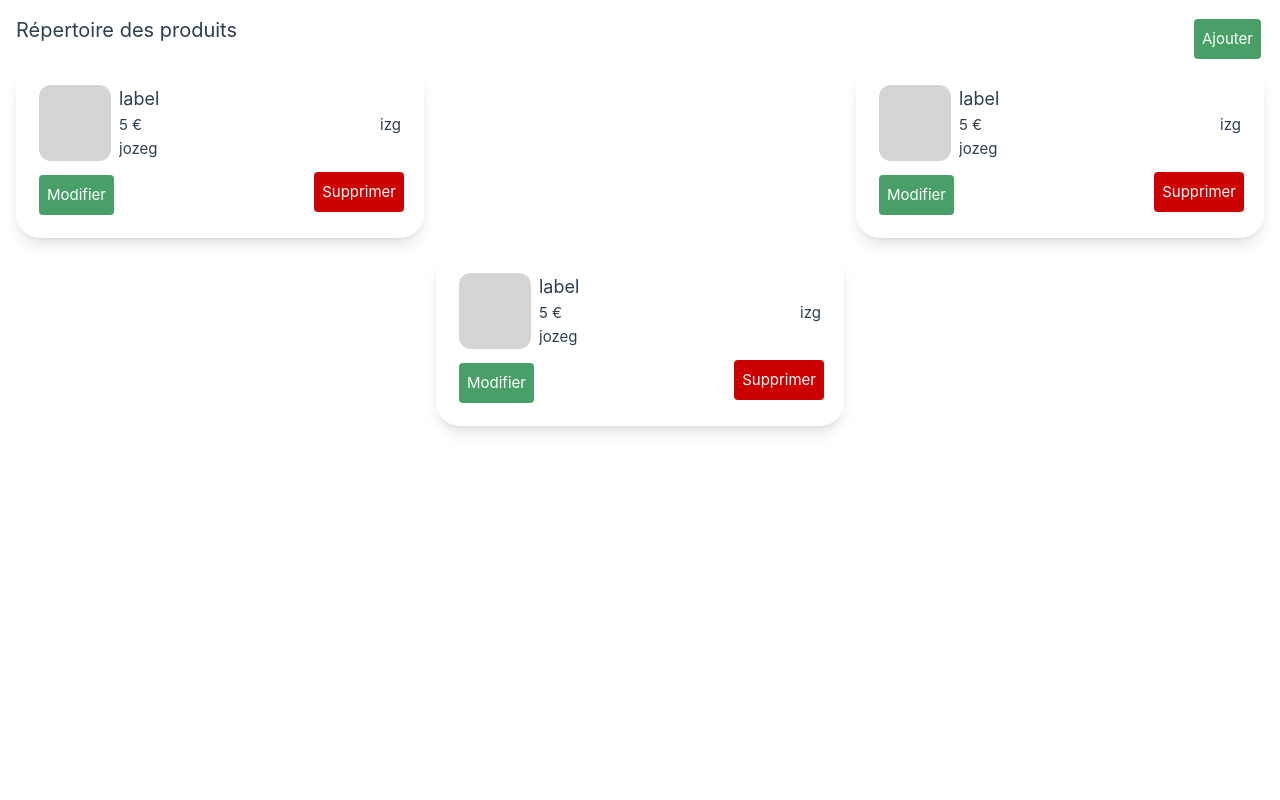
Test: Delete › Delete an element
Click the button with id "delete1" at (359, 192), box [314,172,404,212]
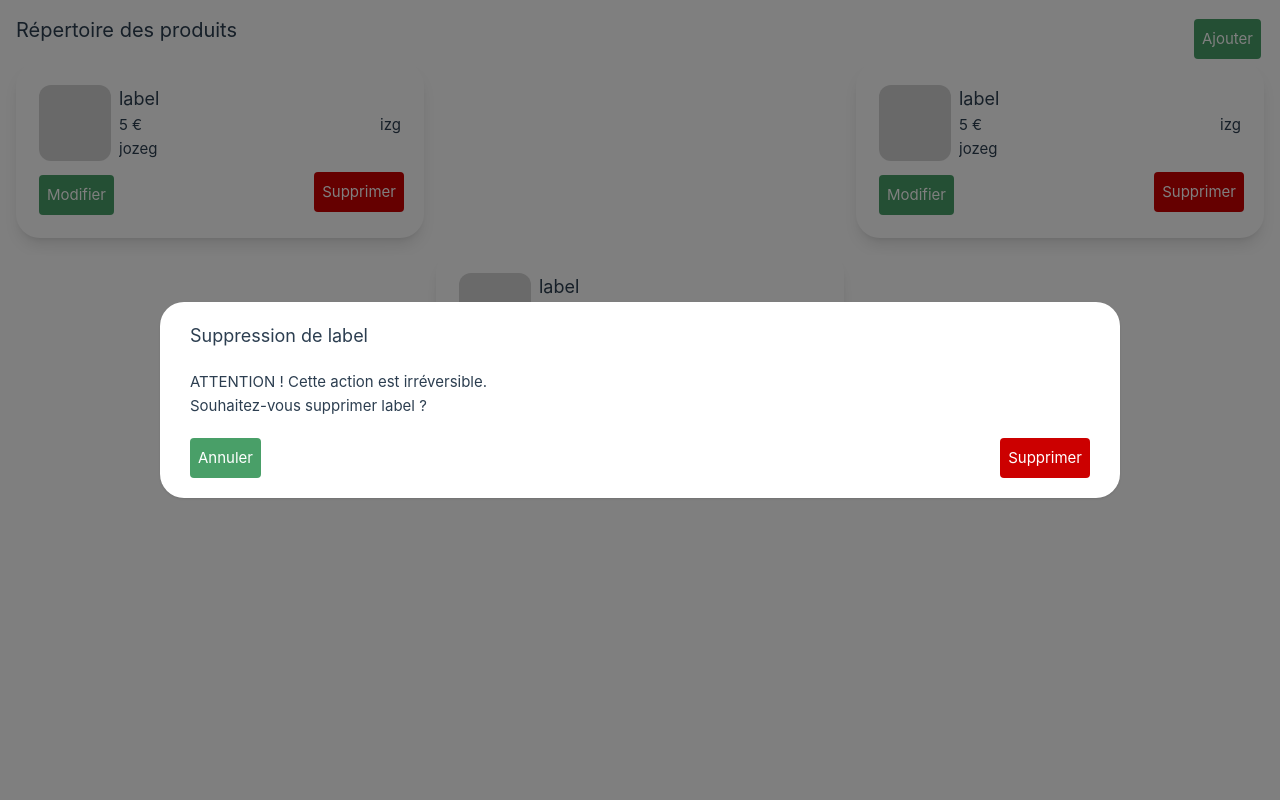
Check: the element with id "delete-popup" is shown
Check: the button with id "delete" is shown
Click the button with id "delete" at (1045, 458), box [1000,438,1090,478]
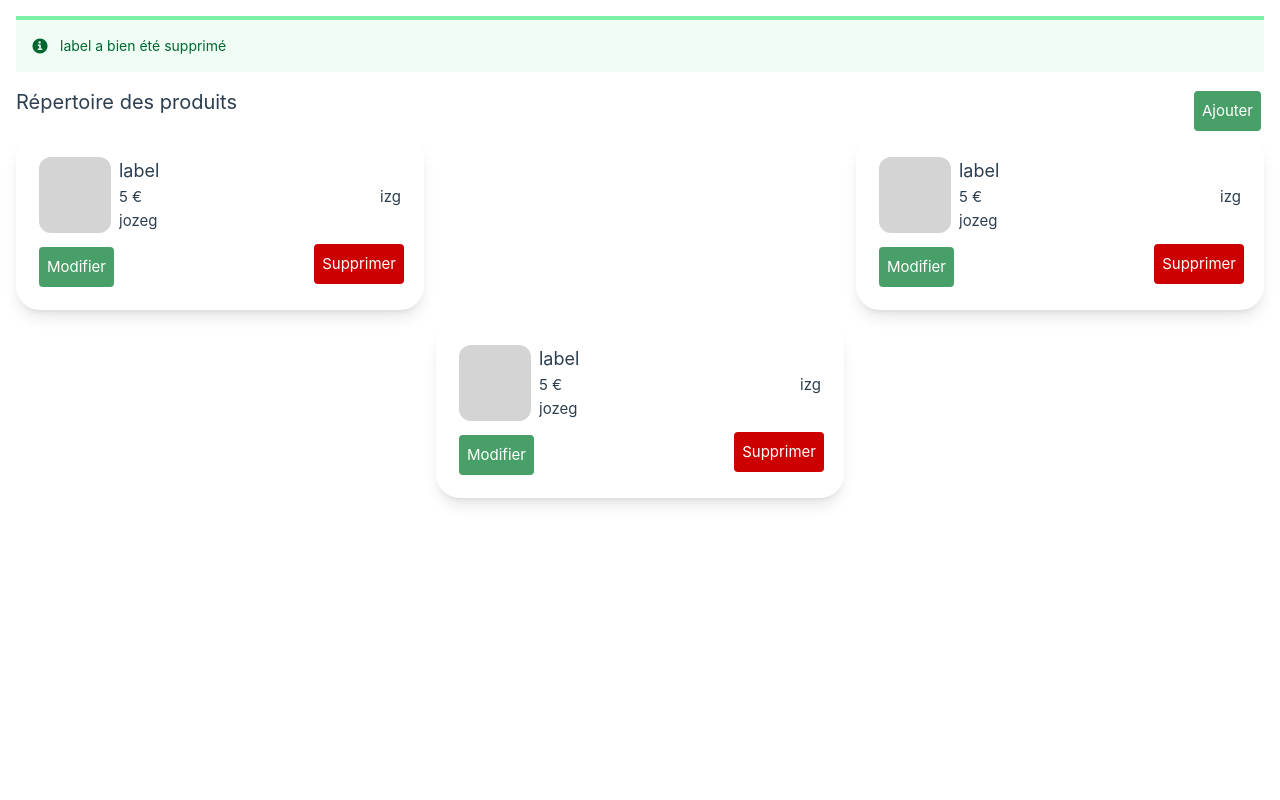
Check: the message "label a bien été supprimé" is shown, box [16,16,1264,72]
